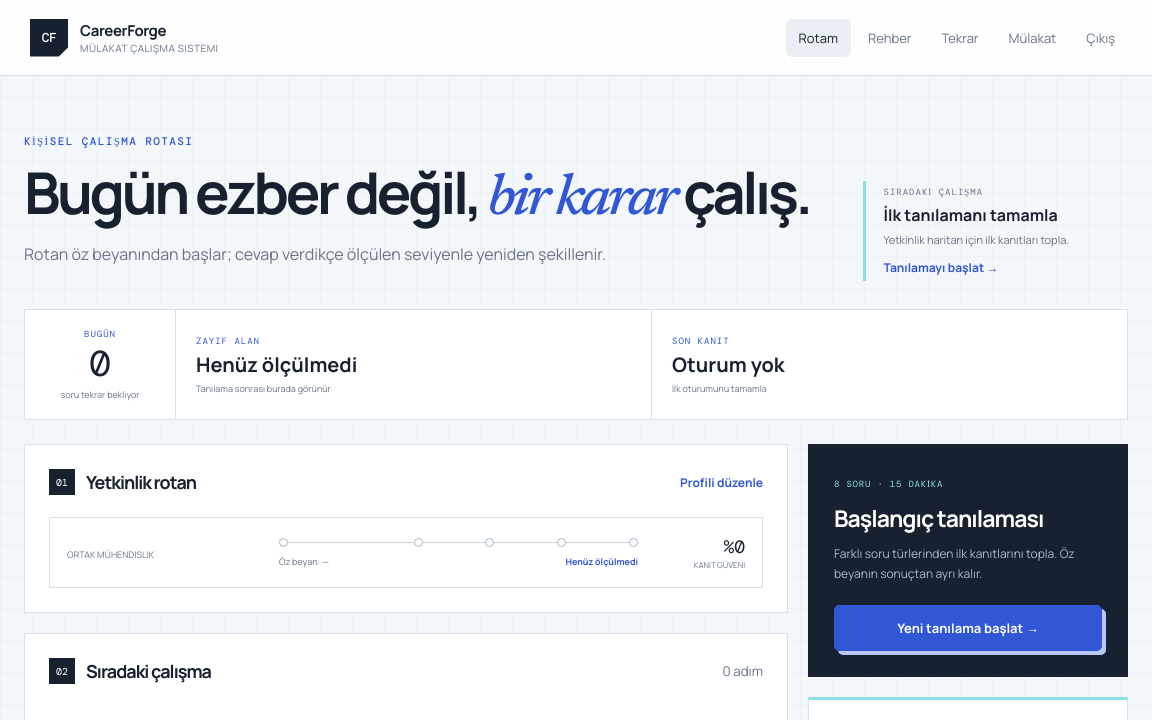
Scenario: App › schedules the next review from the recall rating
Click the button "Tekrar" at (960, 38), box [928,18,992,56]
(page scrolled)
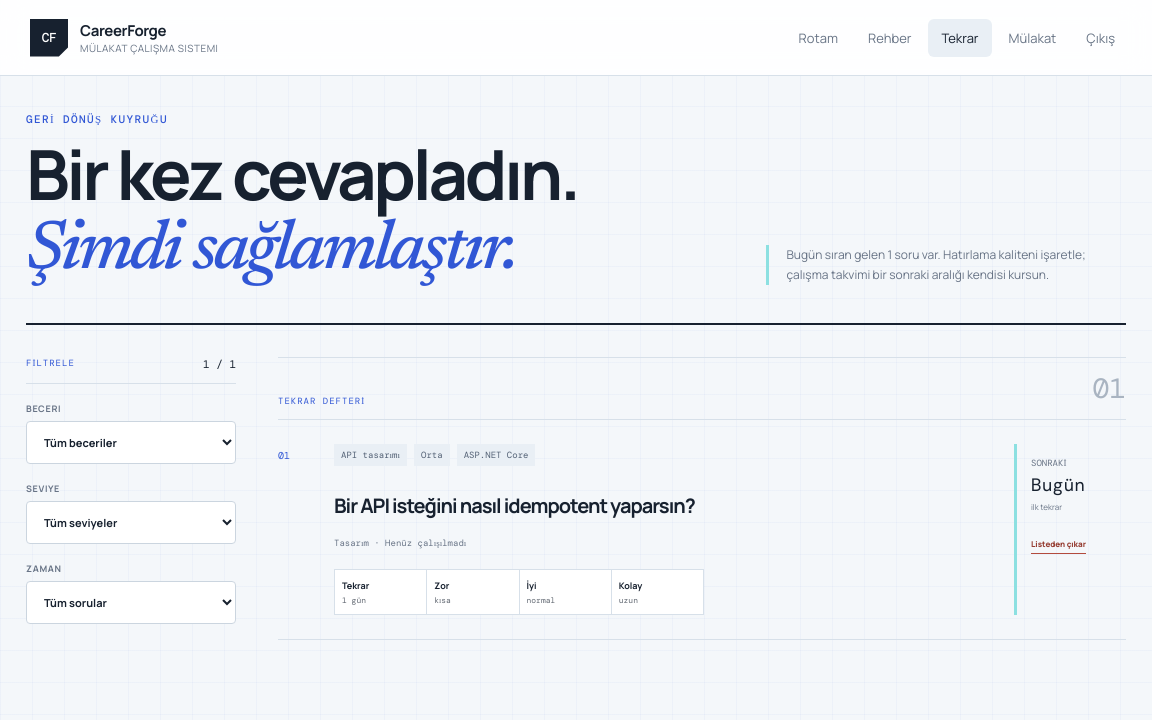
expect the text "Bugün" is shown: met, box [1031,474,1085,498]
expect the heading "Bir API isteğini nasıl idempotent yaparsın?" is shown: met, box [334,492,695,520]
Click the button with aria-label "Kolay, uzun" at (657, 592), box [612,570,703,614]
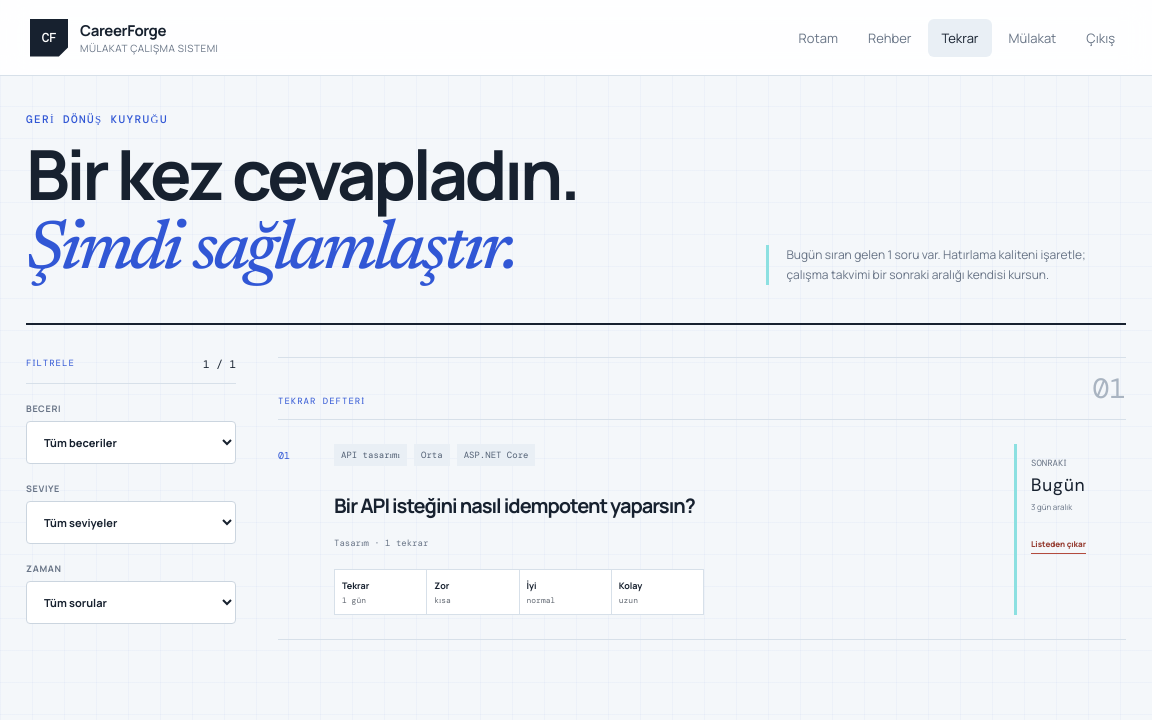
expect the text "3 gün aralık" is shown: met, box [1031,502,1072,512]
expect the text "Tasarım · 1 tekrar" is shown: met, box [334,538,428,550]
